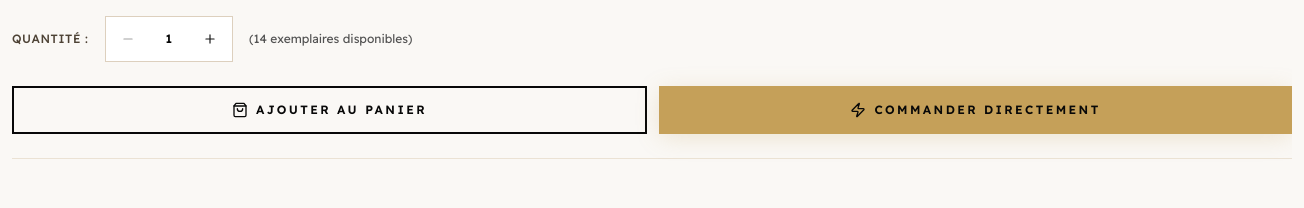
Test: CHALLENGER M2-1 — Adversarial Stress Test Suite (Milestone 2 Customer Storefront) › 4. Standard Add to Cart Flow › adds item to localStorage.getItem("vip_cart") and dispatches custom event "vip-cart-updated"
The image size is (1304, 208).
Click the button "Ajouter au Panier".
click(330, 110)  # box [12, 86, 647, 134]
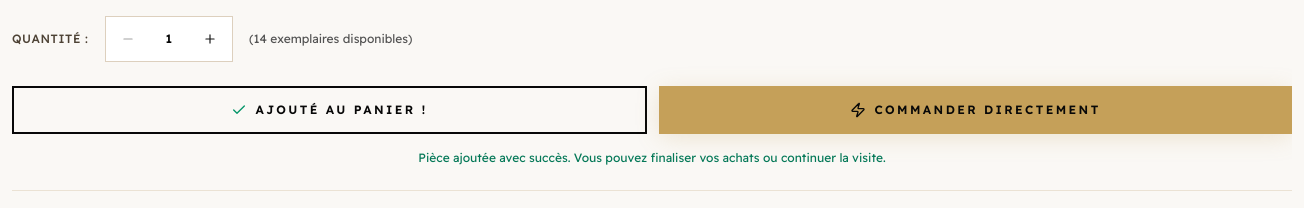
expect the text "Ajouté au Panier !" is shown: met, box [256, 102, 428, 118]
